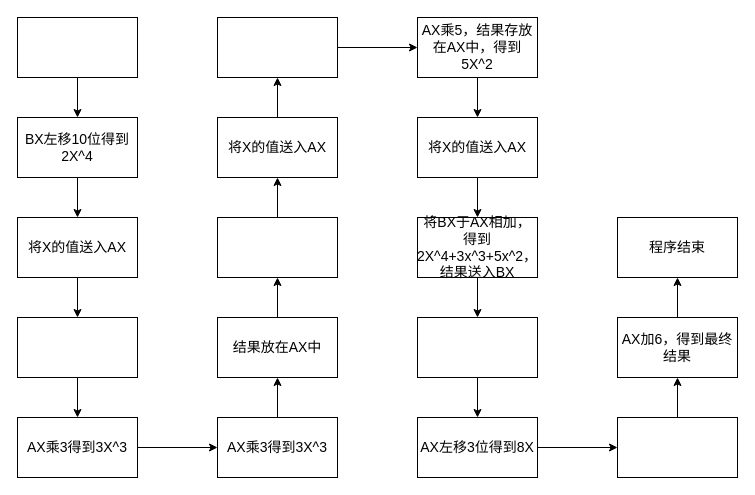
This 755x495 diagram has some shape labels left out. The centre of each missing label's shape, as x and y in pixels:
AX左移3位得到X^2.: [277,47]
AX左移6位得到X^3: [77,347]
将X的值送入BX: [77,47]
将X送入AX: [477,347]
让AX与BX相加，结果送入AX: [677,447]
让BX与AX相加，得到2X^4+3X^3，结果放在BX中: [277,247]
